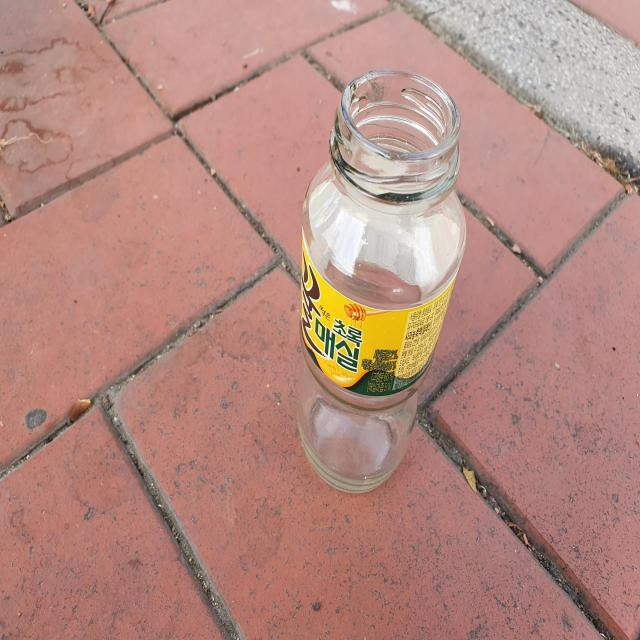glass: (299, 69, 466, 492)
